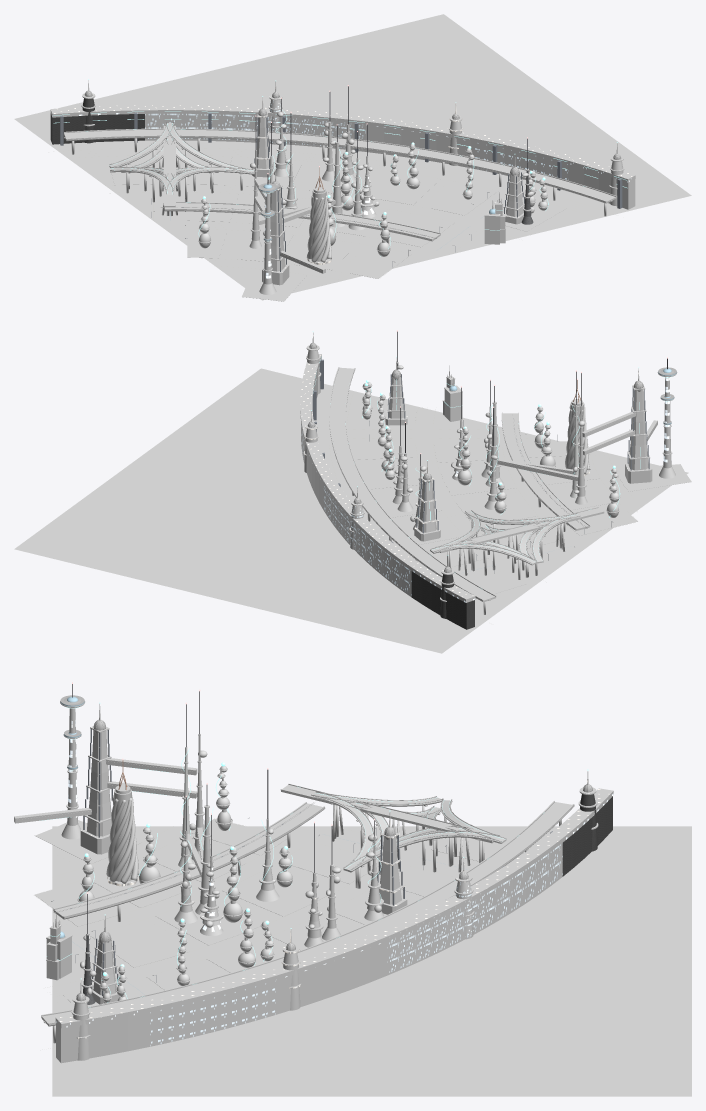
Rendered from Viertel_R3.fbx.
3 views of the same model, one above another, from view 1: azimuth 30°, elevation 25°; view 2: azimuth 150°, elevation 25°; view 3: azimuth 270°, elevation 25° (orthographic). The views are drawn at different scales.
Visible parts, largest first — view 1: Viertel_R3_Strasse, Viertel_R3_Fassaden, Viertel_R3_Details; view 2: Viertel_R3_Strasse, Viertel_R3_Fassaden, Viertel_R3_Details; view 3: Viertel_R3_Strasse, Viertel_R3_Fassaden, Viertel_R3_Details.
Boxes of the visible parts, left/top/right/bottom form: Viertel_R3_Strasse: left=14, top=14, right=691, bottom=301; Viertel_R3_Fassaden: left=50, top=98, right=635, bottom=294; Viertel_R3_Details: left=53, top=79, right=627, bottom=273; Viertel_R3_Strasse: left=14, top=367, right=691, bottom=653; Viertel_R3_Fassaden: left=300, top=350, right=675, bottom=629; Viertel_R3_Details: left=303, top=330, right=677, bottom=614; Viertel_R3_Strasse: left=34, top=792, right=691, bottom=1096; Viertel_R3_Fassaden: left=46, top=708, right=613, bottom=1063; Viertel_R3_Details: left=14, top=682, right=598, bottom=1043.
Bounding box in the file's own units: 64823 × 18300 × 66761.
